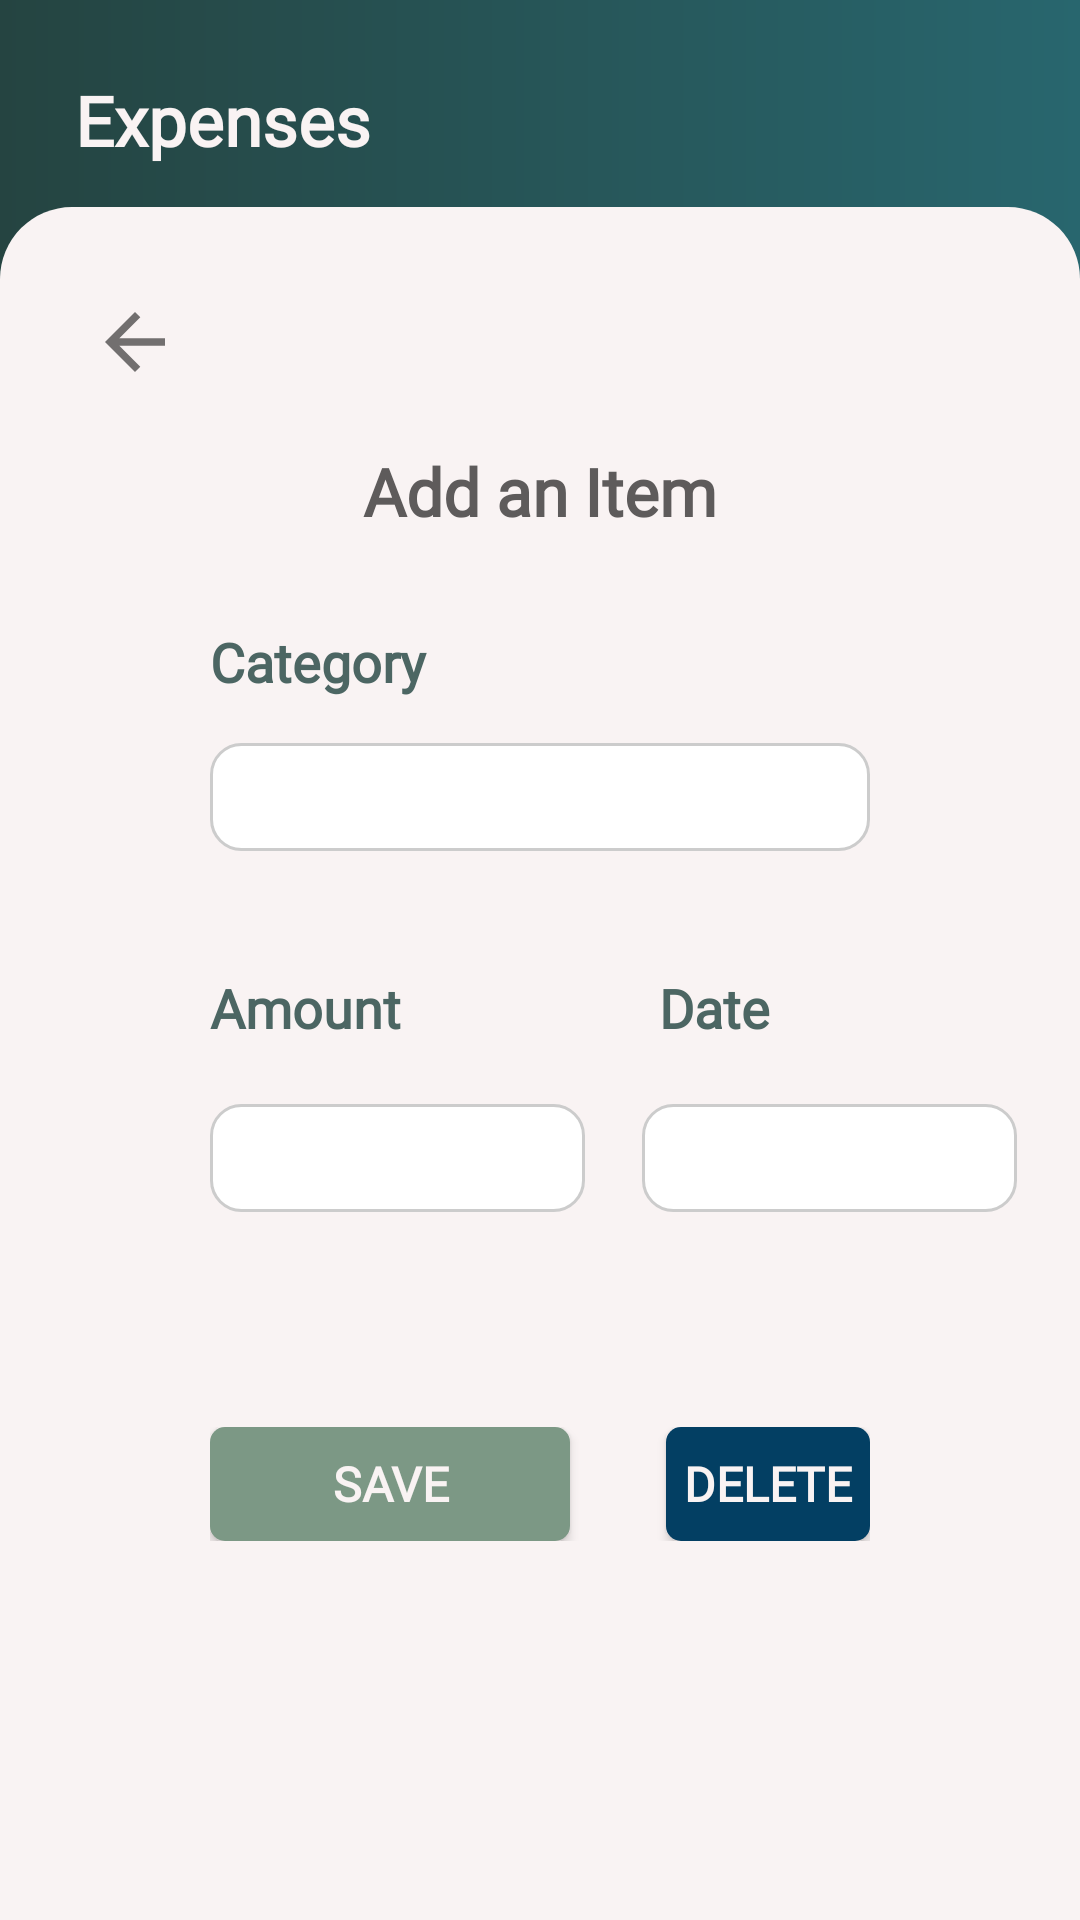

Icons on this 1080×1920 Android screen, each with its box as rect(x1, y1, x2, y2):
arrow back: rect(105, 312, 165, 372)
